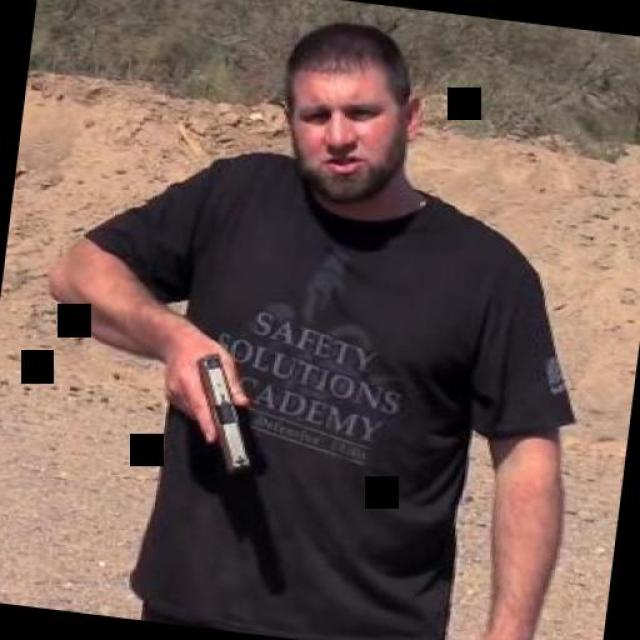gun: (140, 334, 266, 470)
